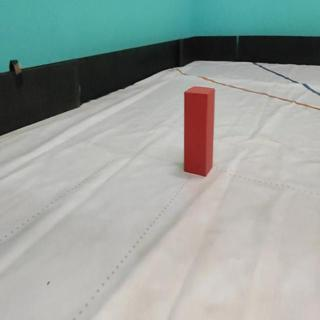redbox: (183, 84, 215, 177)
